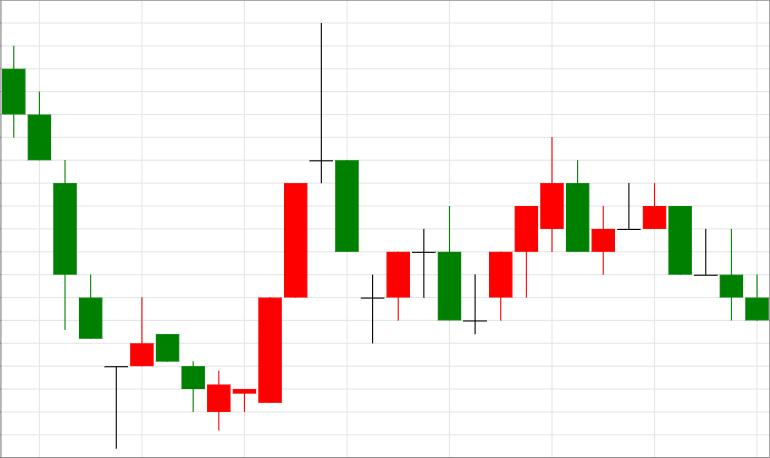evening_star_fall: (208, 23, 359, 431)
